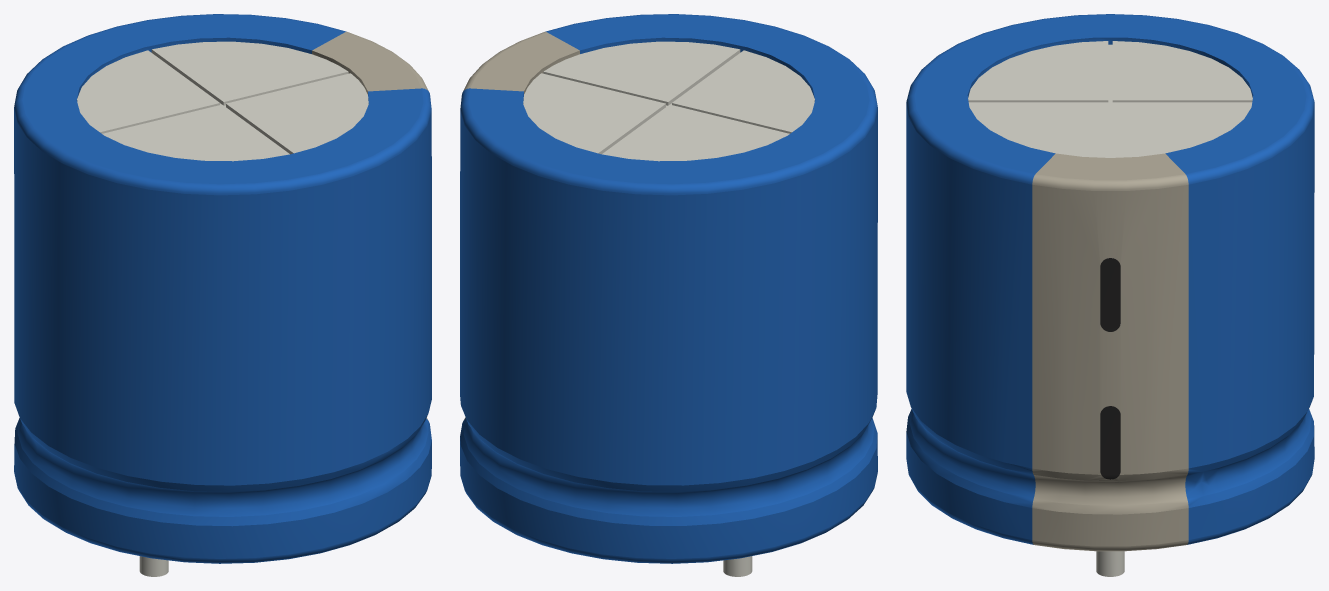
The model's file is kc-cp_radial_d10.0mm_p3.80mm.glb.
3 renders of one model, left to right at view 1: azimuth 30°, elevation 25°; view 2: azimuth 150°, elevation 25°; view 3: azimuth 270°, elevation 25°, orthographic. The views are drawn at different scales.
Visible parts, largest first — view 1: 0_0.16666666666666666_0.5_0, 0.6666666666666666_0.6666666666666666_0.5833333333333334_0.8, 0.4166666666666667_0.4166666666666667_0.3333333333333333_0; view 2: 0_0.16666666666666666_0.5_0, 0.6666666666666666_0.6666666666666666_0.5833333333333334_0.8, 0.4166666666666667_0.4166666666666667_0.3333333333333333_0; view 3: 0_0.16666666666666666_0.5_0, 0.4166666666666667_0.4166666666666667_0.3333333333333333_0, 0.6666666666666666_0.6666666666666666_0.5833333333333334_0.8, 0_0_0_0.
Part boxes in pixels (x1,y1,x2,y2): 0_0.16666666666666666_0.5_0: [14, 14, 431, 563]; 0.6666666666666666_0.6666666666666666_0.5833333333333334_0.8: [77, 41, 368, 576]; 0.4166666666666667_0.4166666666666667_0.3333333333333333_0: [312, 31, 428, 420]; 0_0.16666666666666666_0.5_0: [460, 14, 877, 563]; 0.6666666666666666_0.6666666666666666_0.5833333333333334_0.8: [523, 41, 814, 576]; 0.4166666666666667_0.4166666666666667_0.3333333333333333_0: [463, 31, 579, 419]; 0_0.16666666666666666_0.5_0: [906, 14, 1314, 544]; 0.4166666666666667_0.4166666666666667_0.3333333333333333_0: [1032, 153, 1188, 551]; 0.6666666666666666_0.6666666666666666_0.5833333333333334_0.8: [968, 41, 1252, 576]; 0_0_0_0: [1100, 258, 1120, 479].
Size of the model in its own units: 1 by 1.2 by 0.9998.
